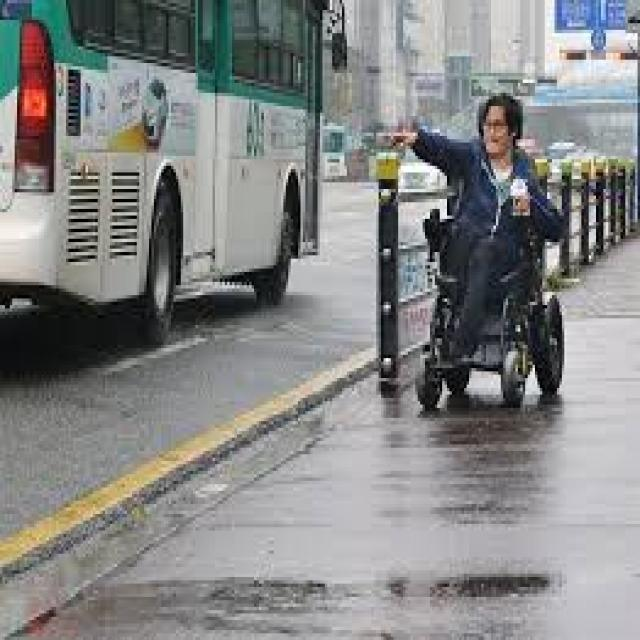wheelchair: (405, 96, 566, 402)
